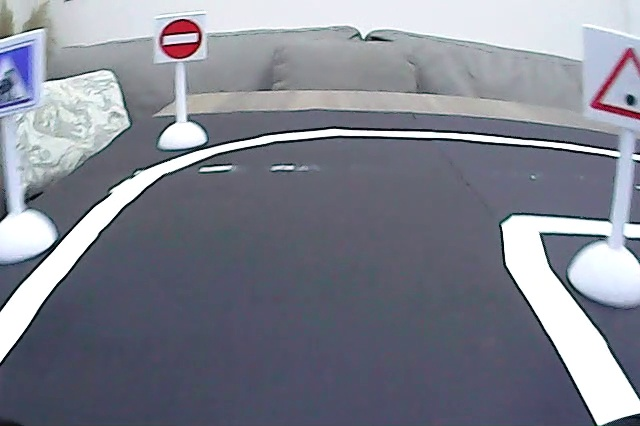do not enter: (156, 16, 204, 60)
green light: (587, 43, 640, 123)
